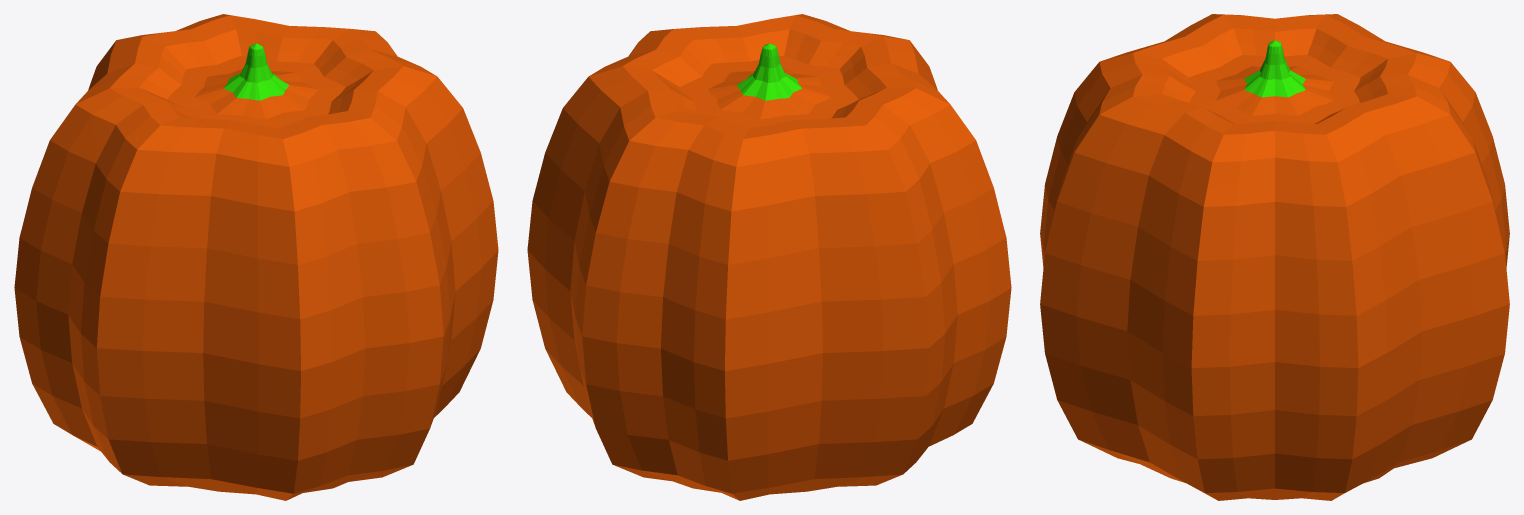
The model's file is pumpkin.glb.
3 renders of one model, left to right at view 1: azimuth 30°, elevation 25°; view 2: azimuth 150°, elevation 25°; view 3: azimuth 270°, elevation 25°, orthographic.
Visible parts, largest first — view 1: pumpkin; view 2: pumpkin; view 3: pumpkin.
Boxes of the visible parts, <box> form: pumpkin: <box>14,14,498,500</box>; pumpkin: <box>527,14,1011,500</box>; pumpkin: <box>1040,14,1509,500</box>.
Size of the model in its own units: 2.22 by 2.15 by 2.22.
